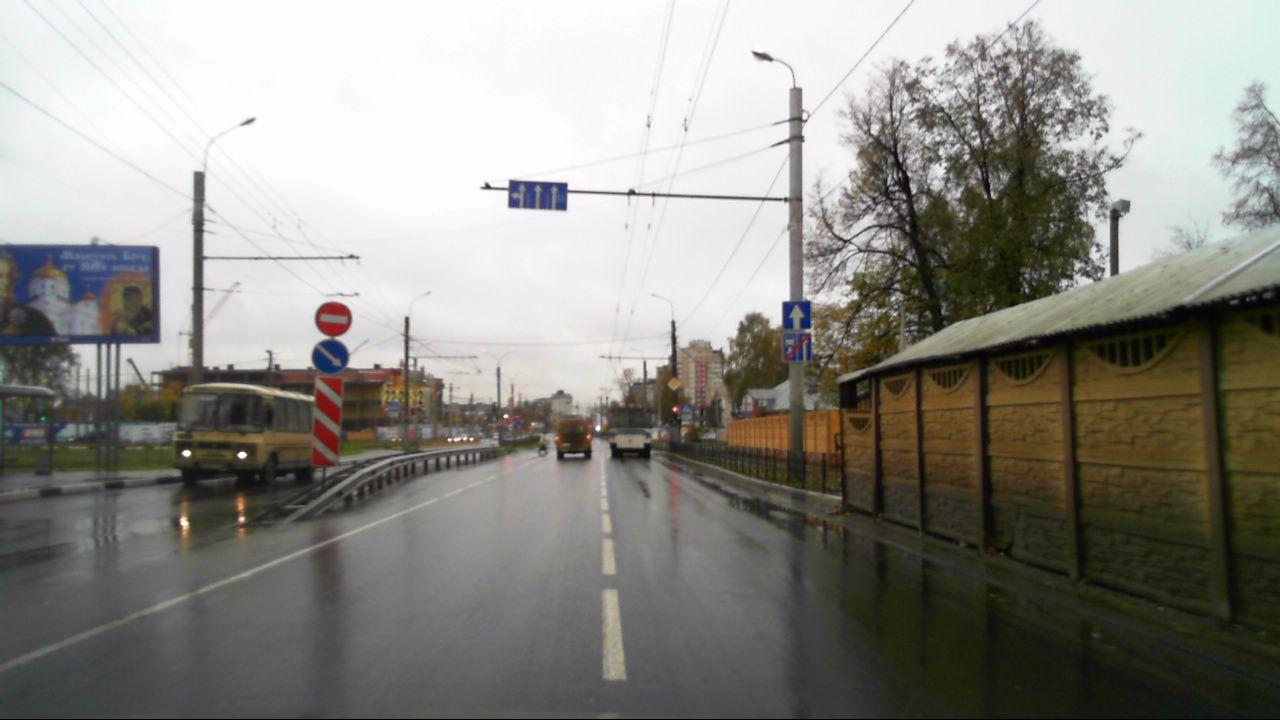2_1: (667, 377, 682, 390)
3_1: (315, 300, 352, 336)
4_2_1: (311, 339, 352, 375)
5_12_1: (781, 333, 812, 362)
5_15_1: (507, 178, 568, 212)
5_19_1: (681, 402, 693, 415)
5_5: (782, 300, 812, 331)
8_22_1: (311, 376, 344, 469)
